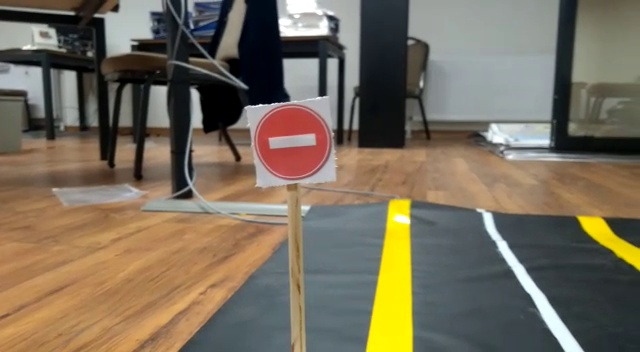girisi_olmayan_yol: (251, 99, 334, 180)
